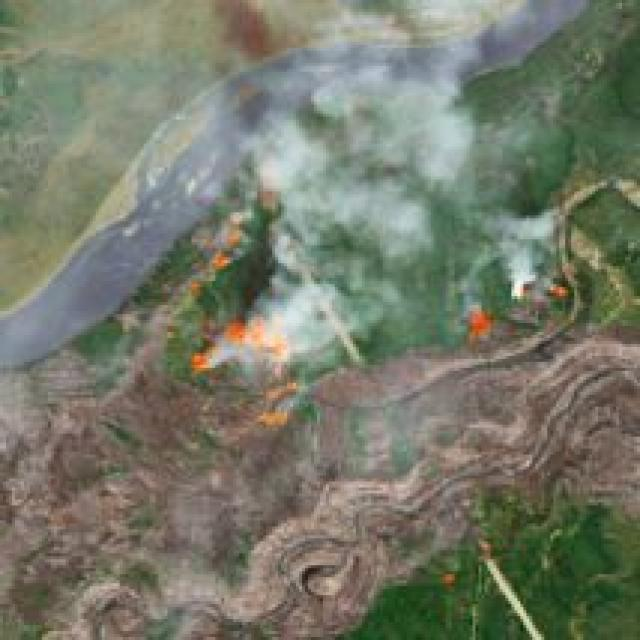Smoke: (206, 19, 515, 353)
